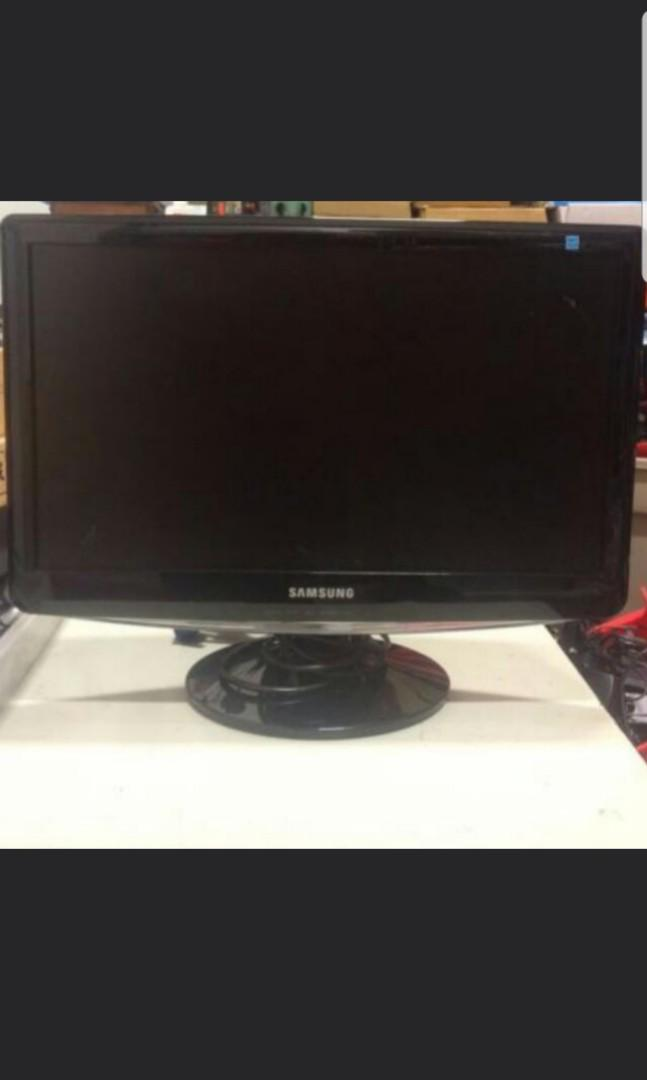samsung-monitor-b2030: (8, 207, 644, 740)
